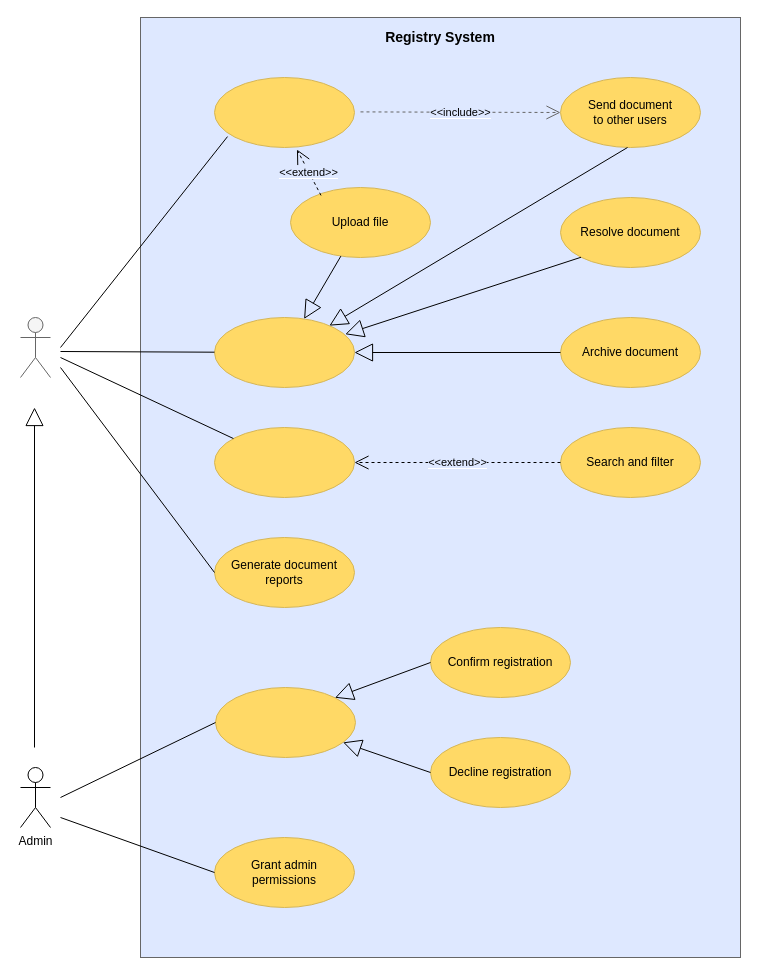
Some shapes in this 758 by 975 pixel diagram are drawn without their labels. Each missing label, with the box of its shape:
Manage registration: (214, 686, 356, 758)
Register document: (214, 76, 354, 148)
User: (20, 316, 50, 378)
View registered documents: (214, 426, 354, 498)
{abstract} Manage document: (214, 316, 354, 388)
